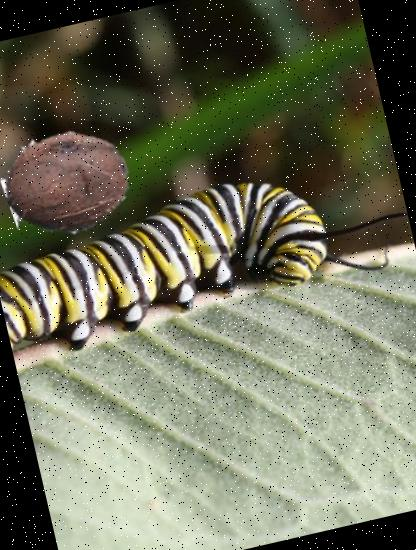Cocos: (0, 107, 141, 256)
